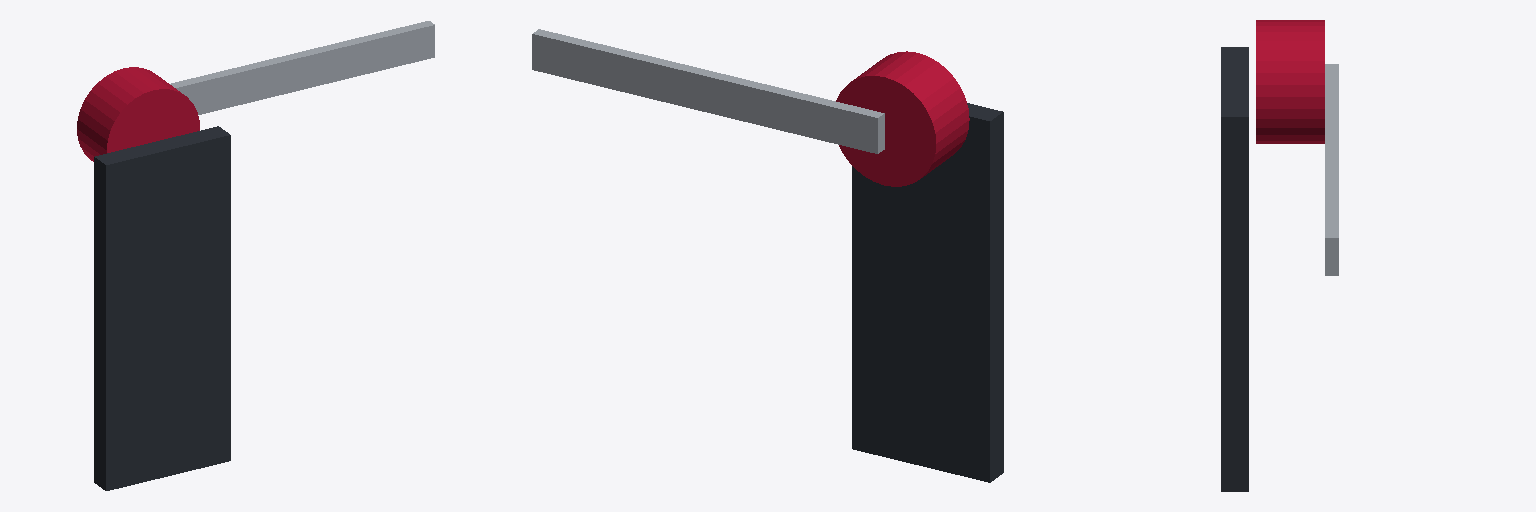
The robot description file, URDF, robot "bench01":
<?xml version="1.0"?>
<!--
  bench01: the single-joint lever-and-weight rig (spec: Phase 1 / Phase 2).

  One spare actuator, output shaft horizontal, bolted to a stand. A flat bar
  (the lever) is bolted to the output flange; test masses hang from a hook on
  the lever. Read by arm_stack (config/arms/bench01.yaml); plain URDF so
  Pinocchio loads it without xacro.

  Ledger (assumptions to confirm on the real rig):
    * Shaft axis = base +y, 0.30 m above the base plate.
    * q = 0: lever horizontal, pointing along base +x (set with a spirit level
      or inclinometer; this is the zero "jig").
    * q > 0 lowers the lever (right-hand rule about +y turns +x toward -z),
      so q = +90 deg is the lever hanging straight down.
    * Lever: 6061 bar 300 x 30 x 10 mm plus hub clamp and hook, 0.30 kg total,
      COM 0.15 m out along the lever (placeholder until weighed).
    * Hook (mass hanging point) 0.25 m from the shaft axis, on the lever
      centerline: frame `hook` (= tool0).
    * URDF limits +-100 deg: the stand's stop bolts sit just past them.
-->
<robot name="bench01">
  <material name="cad_aluminum"><color rgba="0.68 0.70 0.73 1.0"/></material>
  <material name="arm_dark"><color rgba="0.22 0.24 0.27 1.0"/></material>
  <material name="accent_red"><color rgba="0.72 0.12 0.25 1.0"/></material>

  <!-- stand + actuator housing (fixed) -->
  <link name="base_link">
    <visual>
      <origin xyz="0 -0.06 0.15" rpy="0 0 0"/>
      <geometry><box size="0.12 0.02 0.30"/></geometry>
      <material name="arm_dark"/>
    </visual>
    <visual>
      <origin xyz="0 -0.02 0.30" rpy="1.5708 0 0"/>
      <geometry><cylinder radius="0.045" length="0.05"/></geometry>
      <material name="accent_red"/>
    </visual>
    <inertial>
      <origin xyz="0 -0.04 0.15" rpy="0 0 0"/>
      <mass value="5.0"/>
      <inertia ixx="0.05" ixy="0" ixz="0" iyy="0.05" iyz="0" izz="0.05"/>
    </inertial>
  </link>

  <!-- the actuator under test -->
  <joint name="bench_joint" type="revolute">
    <parent link="base_link"/>
    <child link="lever"/>
    <origin xyz="0 0 0.30" rpy="0 0 0"/>
    <axis xyz="0 1 0"/>
    <limit lower="-1.7453" upper="1.7453" effort="60.0" velocity="16.0"/>
  </joint>

  <link name="lever">
    <visual>
      <origin xyz="0.15 0.01 0" rpy="0 0 0"/>
      <geometry><box size="0.30 0.01 0.03"/></geometry>
      <material name="cad_aluminum"/>
    </visual>
    <collision>
      <origin xyz="0.15 0.01 0" rpy="0 0 0"/>
      <geometry><box size="0.30 0.01 0.03"/></geometry>
    </collision>
    <inertial>
      <!-- bar about its COM: m L^2 / 12 about y and z -->
      <origin xyz="0.15 0 0" rpy="0 0 0"/>
      <mass value="0.30"/>
      <inertia ixx="0.00003" ixy="0" ixz="0" iyy="0.00225" iyz="0" izz="0.00225"/>
    </inertial>
  </link>

  <!-- hook: where the test masses hang (also the tool frame) -->
  <joint name="hook_joint" type="fixed">
    <parent link="lever"/>
    <child link="hook"/>
    <origin xyz="0.25 0 0" rpy="0 0 0"/>
  </joint>
  <link name="hook"/>

  <joint name="tool0_joint" type="fixed">
    <parent link="hook"/>
    <child link="tool0"/>
    <origin xyz="0 0 0" rpy="0 0 0"/>
  </joint>
  <link name="tool0"/>
</robot>

--- Render facts (derived) ---
The picture shows the robot from 3 angles, left to right: view 1: azimuth 30°, elevation 25°; view 2: azimuth 150°, elevation 25°; view 3: azimuth 270°, elevation 25°; orthographic projection.
Model bench01 with 4 links and 3 joints (1 revolute, 2 fixed), rooted at base_link, posed every joint at zero.
Visible links, largest first — view 1: base_link, lever; view 2: base_link, lever; view 3: base_link, lever.
Boxes of the visible links, x1,y1,x2,y2 form: base_link: [77, 67, 230, 490]; lever: [170, 21, 434, 114]; base_link: [836, 51, 1003, 482]; lever: [532, 29, 884, 153]; base_link: [1221, 20, 1324, 491]; lever: [1325, 64, 1338, 275].
Bounding box of the posed robot: 0.36 × 0.085 × 0.345 m (x, y, z).
Geometry: primitives only (box / cylinder / sphere), no mesh files.
